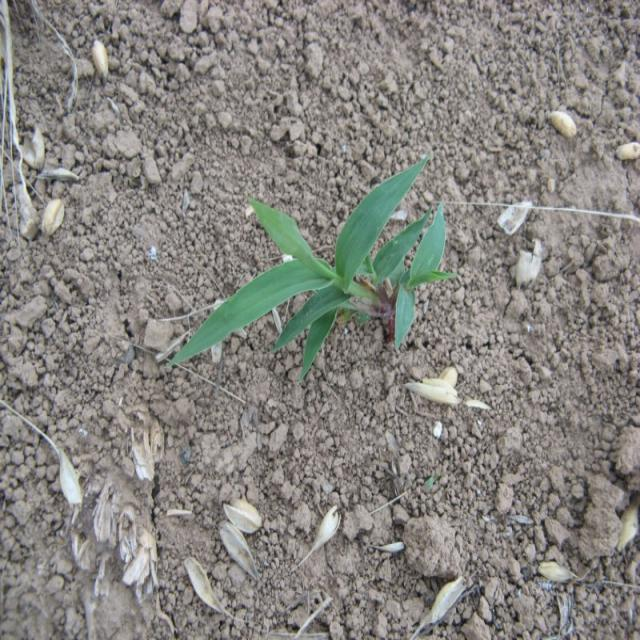bg: (168, 170, 453, 378)
